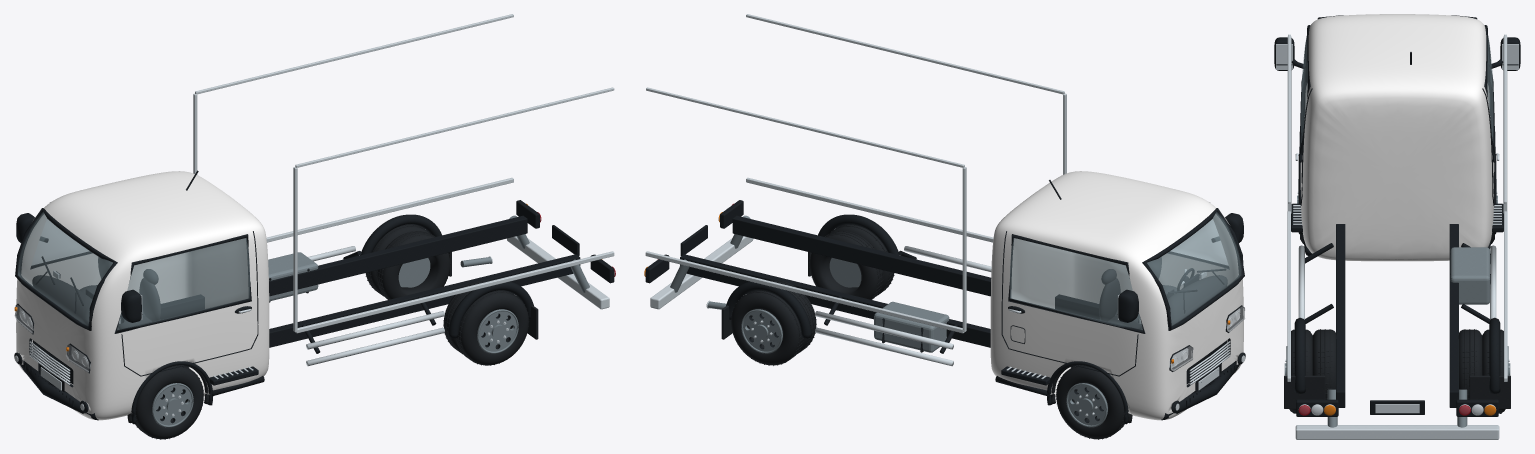
The model's file is chassis.glb.
The picture shows the model from 3 angles, left to right: view 1: azimuth 30°, elevation 25°; view 2: azimuth 150°, elevation 25°; view 3: azimuth 270°, elevation 25°; orthographic projection. The views are drawn at different scales.
Visible parts, largest first — view 1: Forward-control truck hollow 12-station cab, Truck cab door window curved transparent pane -1, Truck raked laminated windscreen curved laminated transparen, Truck ladder chassis side rail.001, Truck ladder chassis side rail, Commercial tire formed sidewalls.002, Commercial tire formed sidewalls, Commercial tire formed sidewalls.005, Seated cargo lower aluminium edge, Truck raked laminated windscreen recessed rubber gasket, Seated cargo lower aluminium edge.001, Sculpted dashboard (+19 smaller); view 2: Forward-control truck hollow 12-station cab, Truck cab door window curved transparent pane 1, Truck ladder chassis side rail, Truck raked laminated windscreen curved laminated transparen, Truck ladder chassis side rail.001, Commercial tire formed sidewalls.004, Commercial tire formed sidewalls.001, Truck fuel reservoir, Commercial tire formed sidewalls.003, Seated cargo lower aluminium edge.001, Truck raked laminated windscreen recessed rubber gasket, Seated cargo lower aluminium edge (+19 smaller); view 3: Forward-control truck hollow 12-station cab, Rear under-ride protection bar, Truck fuel reservoir, Truck ladder chassis side rail, Truck ladder chassis side rail.001, Commercial tire formed sidewalls.003, Commercial tire formed sidewalls.005, Rear wheel rubber mud flap, Rear wheel rubber mud flap.001, Rear truck formed wheel fender, Rear truck formed wheel fender.001, Seated cargo lower aluminium edge (+23 smaller).
Boxes of the visible parts, bbox=[...] form: Forward-control truck hollow 12-station cab: bbox=[16, 171, 269, 420]; Truck cab door window curved transparent pane -1: bbox=[117, 238, 250, 329]; Truck raked laminated windscreen curved laminated transparen: bbox=[18, 212, 112, 325]; Truck ladder chassis side rail.001: bbox=[160, 215, 527, 319]; Truck ladder chassis side rail: bbox=[186, 254, 580, 367]; Commercial tire formed sidewalls.002: bbox=[456, 290, 528, 365]; Commercial tire formed sidewalls: bbox=[134, 365, 203, 439]; Commercial tire formed sidewalls.005: bbox=[376, 231, 450, 299]; Seated cargo lower aluminium edge: bbox=[295, 251, 614, 333]; Truck raked laminated windscreen recessed rubber gasket: bbox=[15, 208, 117, 330]; Seated cargo lower aluminium edge.001: bbox=[266, 177, 513, 242]; Sculpted dashboard: bbox=[32, 275, 92, 325]; Forward-control truck hollow 12-station cab: bbox=[990, 171, 1243, 420]; Truck cab door window curved transparent pane 1: bbox=[1009, 238, 1142, 329]; Truck ladder chassis side rail: bbox=[732, 215, 1099, 319]; Truck raked laminated windscreen curved laminated transparen: bbox=[1147, 212, 1241, 325]; Truck ladder chassis side rail.001: bbox=[680, 254, 1073, 367]; Commercial tire formed sidewalls.004: bbox=[731, 290, 804, 365]; Commercial tire formed sidewalls.001: bbox=[1056, 365, 1125, 439]; Truck fuel reservoir: bbox=[874, 301, 949, 352]; Commercial tire formed sidewalls.003: bbox=[810, 231, 883, 299]; Seated cargo lower aluminium edge.001: bbox=[645, 251, 964, 333]; Truck raked laminated windscreen recessed rubber gasket: bbox=[1142, 208, 1244, 330]; Seated cargo lower aluminium edge: bbox=[746, 177, 993, 242]; Forward-control truck hollow 12-station cab: bbox=[1300, 14, 1494, 261]; Rear under-ride protection bar: bbox=[1295, 425, 1499, 439]; Truck fuel reservoir: bbox=[1450, 247, 1490, 304]; Truck ladder chassis side rail: bbox=[1336, 224, 1345, 407]; Truck ladder chassis side rail.001: bbox=[1449, 224, 1458, 407]; Commercial tire formed sidewalls.003: bbox=[1312, 329, 1336, 399]; Commercial tire formed sidewalls.005: bbox=[1458, 329, 1482, 399]; Rear wheel rubber mud flap: bbox=[1284, 375, 1325, 408]; Rear wheel rubber mud flap.001: bbox=[1469, 375, 1510, 408]; Rear truck formed wheel fender: bbox=[1294, 317, 1305, 393]; Rear truck formed wheel fender.001: bbox=[1489, 317, 1500, 393]; Seated cargo lower aluminium edge: bbox=[1287, 211, 1290, 381].
Bounding box in the file's own units: 7.31 × 3.3 × 2.73.
10 materials, 9 textured.
